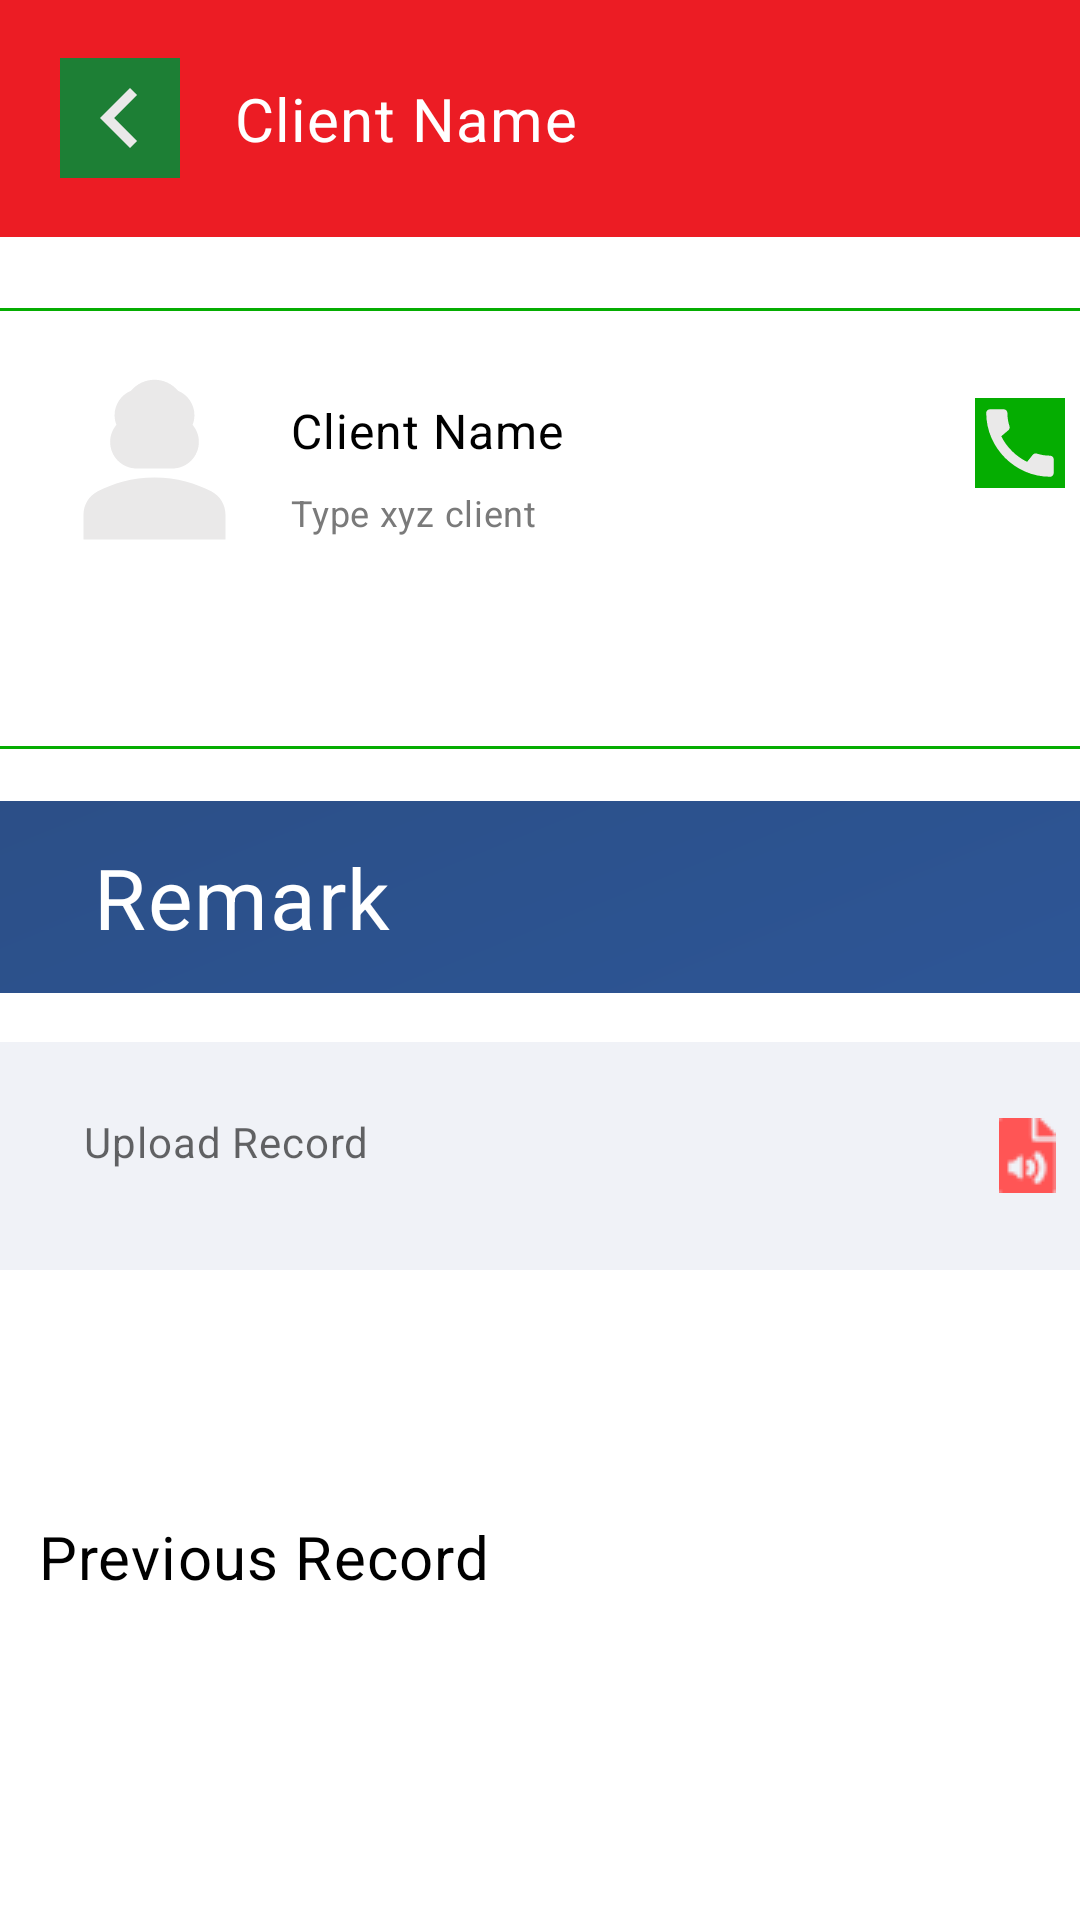

Where to tap for icons on this 1080*1920 app screen, as (x,y):
call: (1020,443)
chevron left: (120,118)
